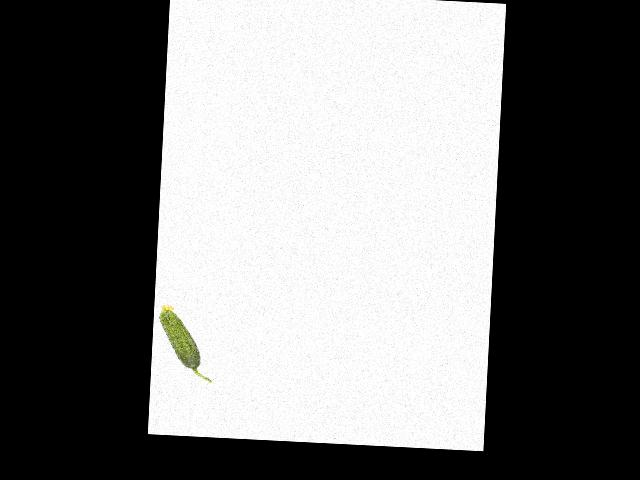cucumber: (155, 303, 215, 382)
